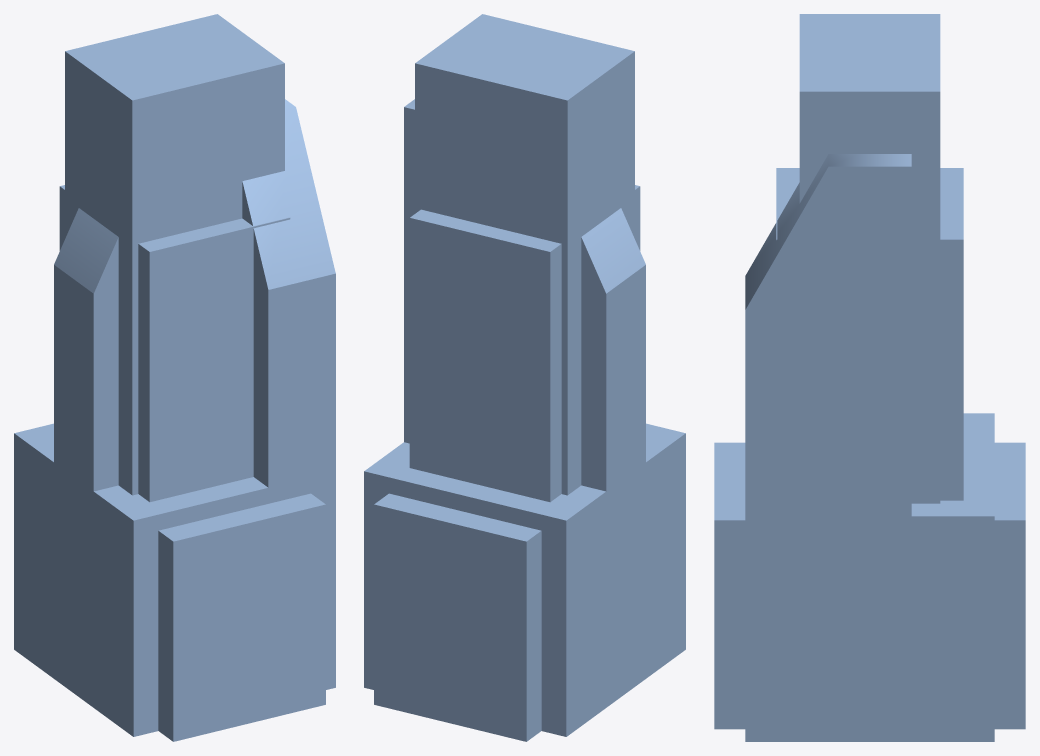
Rendered from Buildings.fbx.
3 renders of one model, left to right at view 1: azimuth 30°, elevation 25°; view 2: azimuth 150°, elevation 25°; view 3: azimuth 270°, elevation 25°, orthographic. The views are drawn at different scales.
Parts seen in each view (by area): view 1: building8, building7, building6; view 2: building7, building8, building6; view 3: building8, building7, building6.
Boxes of the visible parts, box(x1,y1,x2,y2) form: building8: box(14, 99, 335, 736); building7: box(65, 14, 325, 741); building6: box(59, 185, 290, 502); building7: box(374, 14, 634, 741); building8: box(364, 99, 685, 736); building6: box(409, 185, 640, 502); building8: box(745, 154, 994, 741); building7: box(714, 14, 1025, 729); building6: box(776, 168, 963, 500).
Size of the model in its own units: 3519 by 10163 by 4499.
